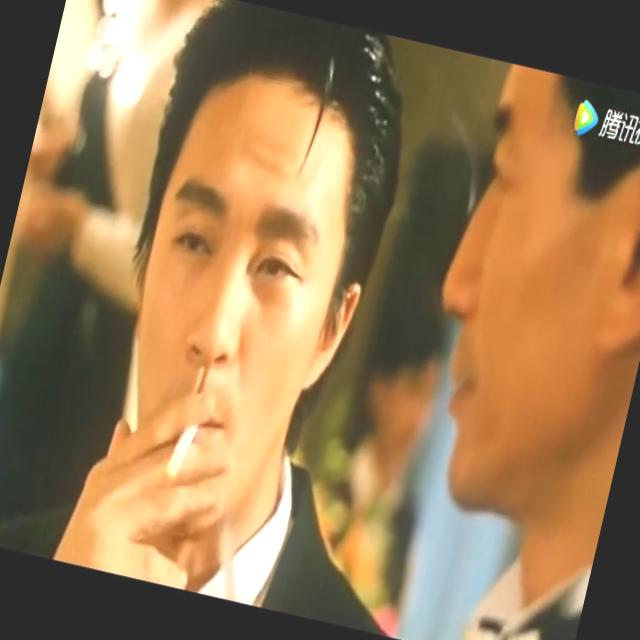cigarette: (159, 408, 206, 492)
